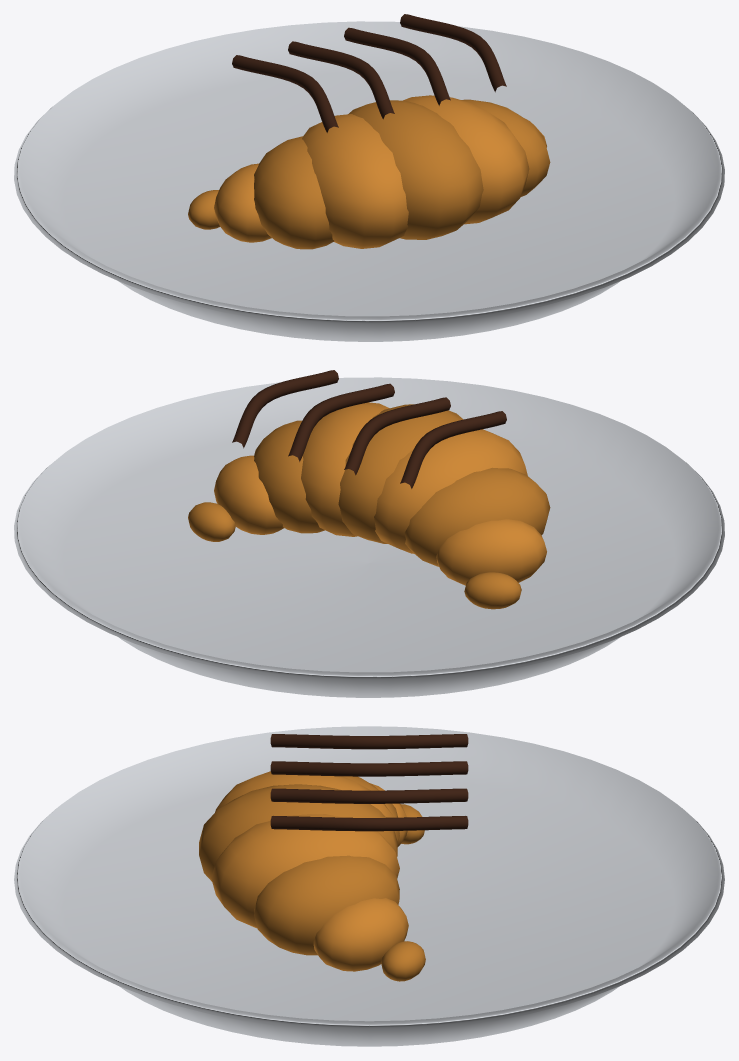
File: alba-croissant-crema-o-cioccolato.glb
The picture shows the model from 3 angles, top to bottom: view 1: azimuth 30°, elevation 25°; view 2: azimuth 150°, elevation 25°; view 3: azimuth 270°, elevation 25°; orthographic projection.
Bounding box in the file's own units: 0.22 × 0.0537 × 0.22.
